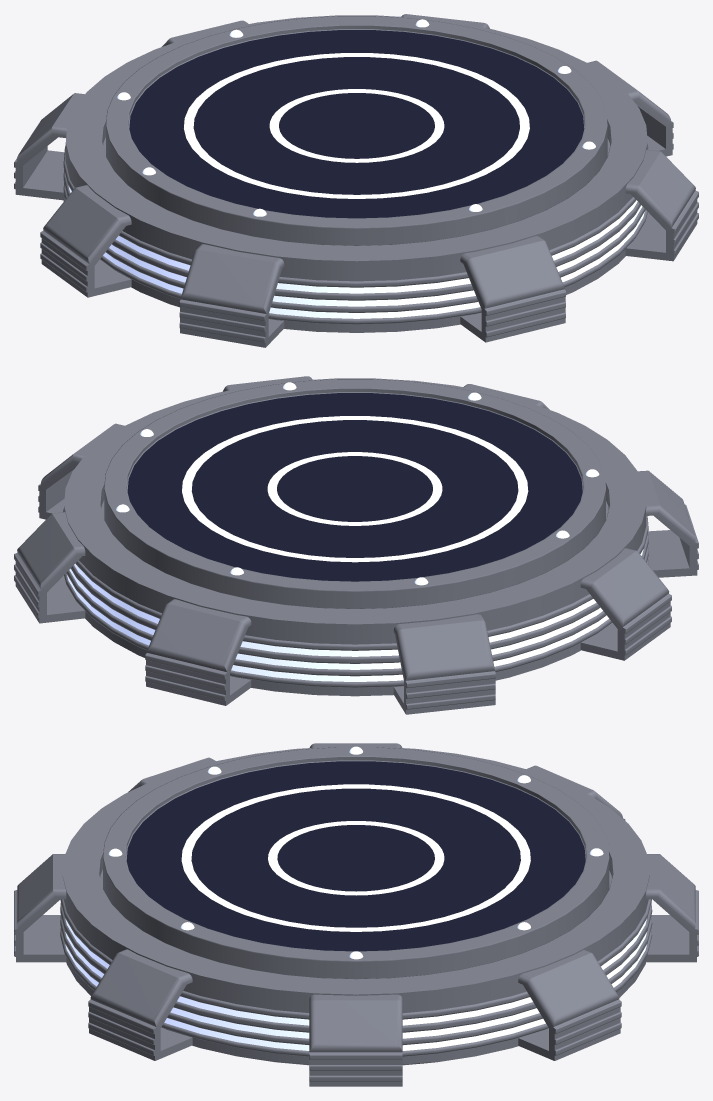
The model's file is robot stand bottom light.fbx.
The picture shows the model from 3 angles, top to bottom: view 1: azimuth 30°, elevation 25°; view 2: azimuth 150°, elevation 25°; view 3: azimuth 270°, elevation 25°; orthographic projection.
Visible parts, largest first — view 1: pCylinder1, pCube6, pCube1, pCube3, pCube5, pCube7, pCube4; view 2: pCylinder1, pCube7, pCube2, pCube3, pCube8, pCube6, pCube4; view 3: pCylinder1, pCube4, pCube5, pCube8, pCube2, pCube1, pCube7.
Part boxes in pixels (bbox=[...]): pCylinder1: bbox=[63, 15, 648, 332]; pCube6: bbox=[179, 244, 284, 347]; pCube1: bbox=[460, 236, 565, 342]; pCube3: bbox=[40, 185, 131, 297]; pCube5: bbox=[625, 149, 698, 261]; pCube7: bbox=[14, 93, 84, 200]; pCube4: bbox=[587, 60, 673, 156]; pCylinder1: bbox=[63, 378, 648, 696]; pCube7: bbox=[393, 614, 495, 714]; pCube2: bbox=[145, 599, 251, 705]; pCube3: bbox=[580, 548, 671, 660]; pCube8: bbox=[14, 512, 85, 623]; pCube6: bbox=[638, 470, 698, 577]; pCube4: bbox=[38, 423, 124, 519]; pCylinder1: bbox=[60, 746, 652, 1065]; pCube4: bbox=[309, 994, 402, 1086]; pCube5: bbox=[88, 949, 192, 1060]; pCube8: bbox=[518, 950, 621, 1060]; pCube2: bbox=[646, 854, 698, 962]; pCube1: bbox=[14, 854, 66, 962]; pCube7: bbox=[526, 765, 625, 820].
Bounding box in the file's own units: 13.24 × 1.99 × 13.24.
